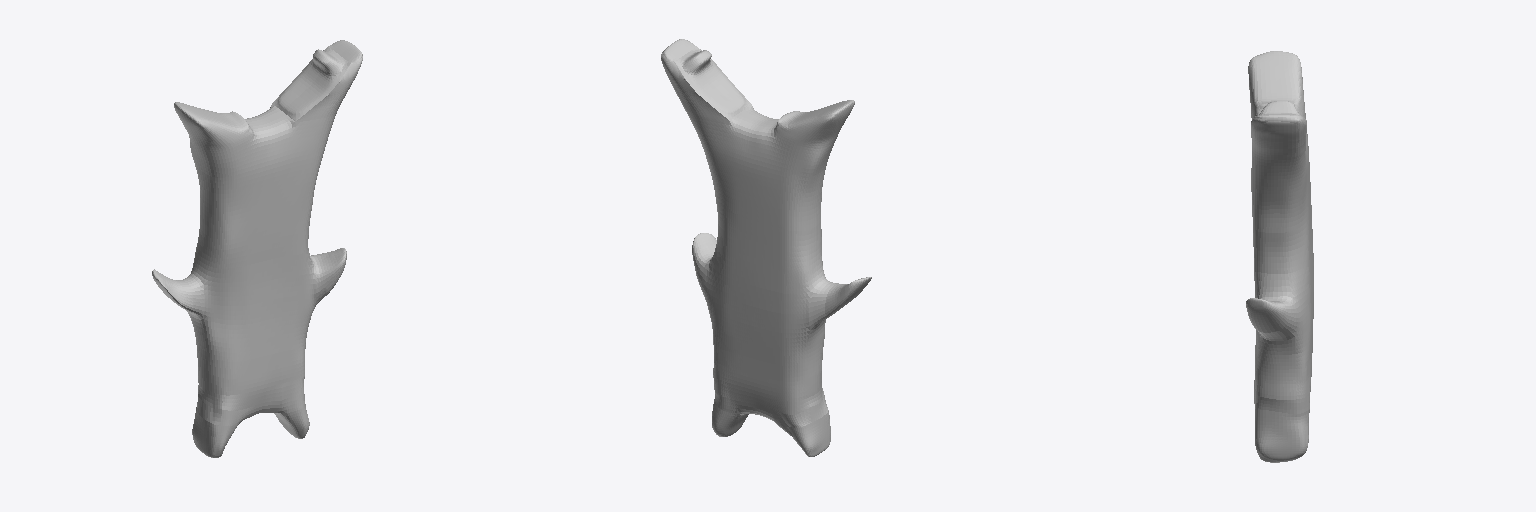
File: korok24.obj
3 renders of one model, left to right at view 1: azimuth 30°, elevation 25°; view 2: azimuth 150°, elevation 25°; view 3: azimuth 270°, elevation 25°, orthographic.
Visible parts, largest first — view 1: Plane; view 2: Plane; view 3: Plane.
Boxes of the visible parts, x1,y1,x2,y2 form: Plane: [152, 40, 362, 457]; Plane: [661, 39, 871, 456]; Plane: [1246, 51, 1313, 462].
Size of the model in its own units: 1.01 by 1.82 by 0.3004.